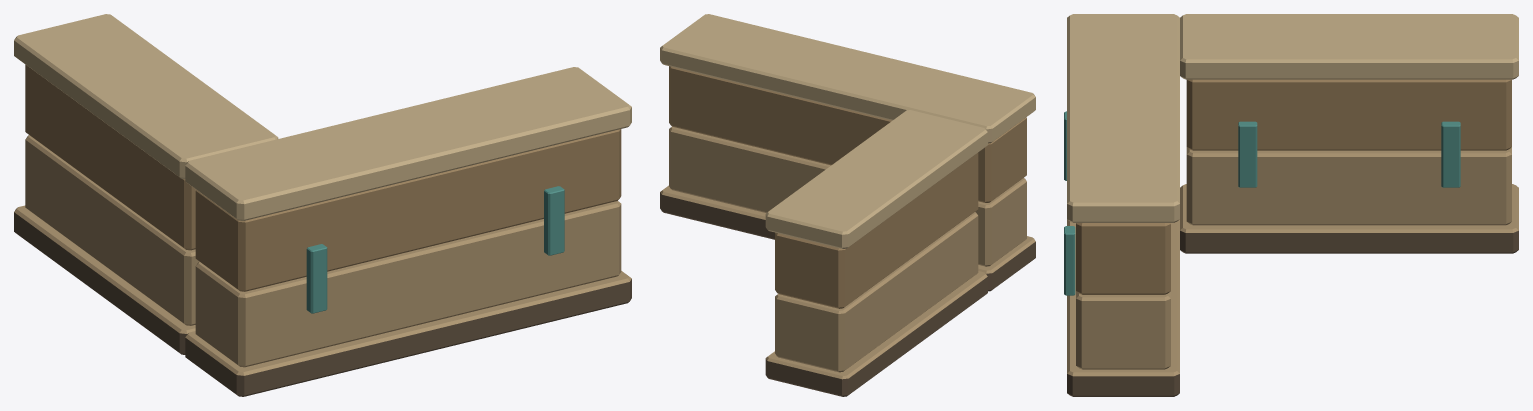
The model's file is wall-corner.glb.
3 renders of one model, left to right at view 1: azimuth 30°, elevation 25°; view 2: azimuth 150°, elevation 25°; view 3: azimuth 270°, elevation 25°, orthographic. The views are drawn at different scales.
Parts seen in each view (by area): view 1: wall-corner__body; view 2: wall-corner__body; view 3: wall-corner__body.
Boxes of the visible parts, box(x1,y1,x2,y2) form: wall-corner__body: box(14, 14, 631, 396); wall-corner__body: box(660, 14, 1035, 396); wall-corner__body: box(1064, 14, 1518, 396).
Bounding box in the file's own units: 2 × 0.95 × 2.01.
